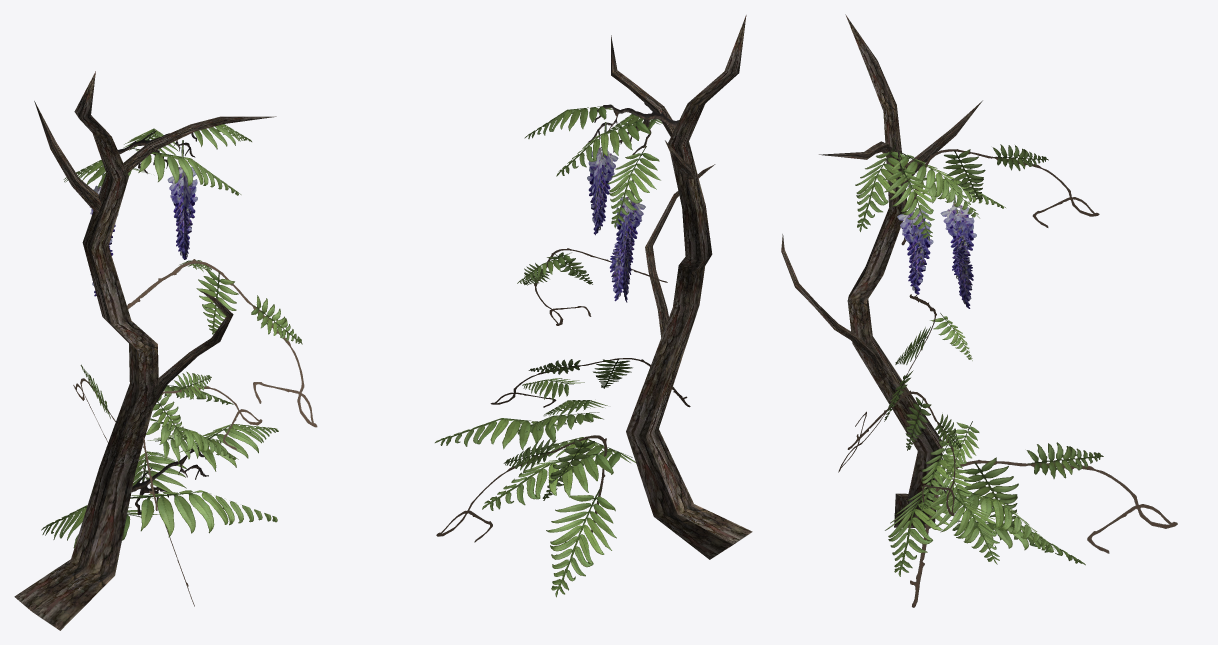
Rendered from Scene_Tree_tengluo_3.FBX.
The picture shows the model from 3 angles, left to right: view 1: azimuth 30°, elevation 25°; view 2: azimuth 150°, elevation 25°; view 3: azimuth 270°, elevation 25°; orthographic projection. The views are drawn at different scales.
Parts seen in each view (by area): view 1: Scene_Tree_tengluo_3_a, Scene_Tree_tengluo_3_b; view 2: Scene_Tree_tengluo_3_b, Scene_Tree_tengluo_3_a; view 3: Scene_Tree_tengluo_3_b, Scene_Tree_tengluo_3_a.
Part boxes in pixels (x1=…): Scene_Tree_tengluo_3_a: x1=14, y1=71, x2=276, y2=630; Scene_Tree_tengluo_3_b: x1=41, y1=124, x2=317, y2=606; Scene_Tree_tengluo_3_b: x1=435, y1=102, x2=690, y2=597; Scene_Tree_tengluo_3_a: x1=611, y1=15, x2=752, y2=559; Scene_Tree_tengluo_3_b: x1=838, y1=134, x2=1177, y2=607; Scene_Tree_tengluo_3_a: x1=781, y1=14, x2=982, y2=528.
Bounding box in the file's own units: 357 × 642 × 450.
